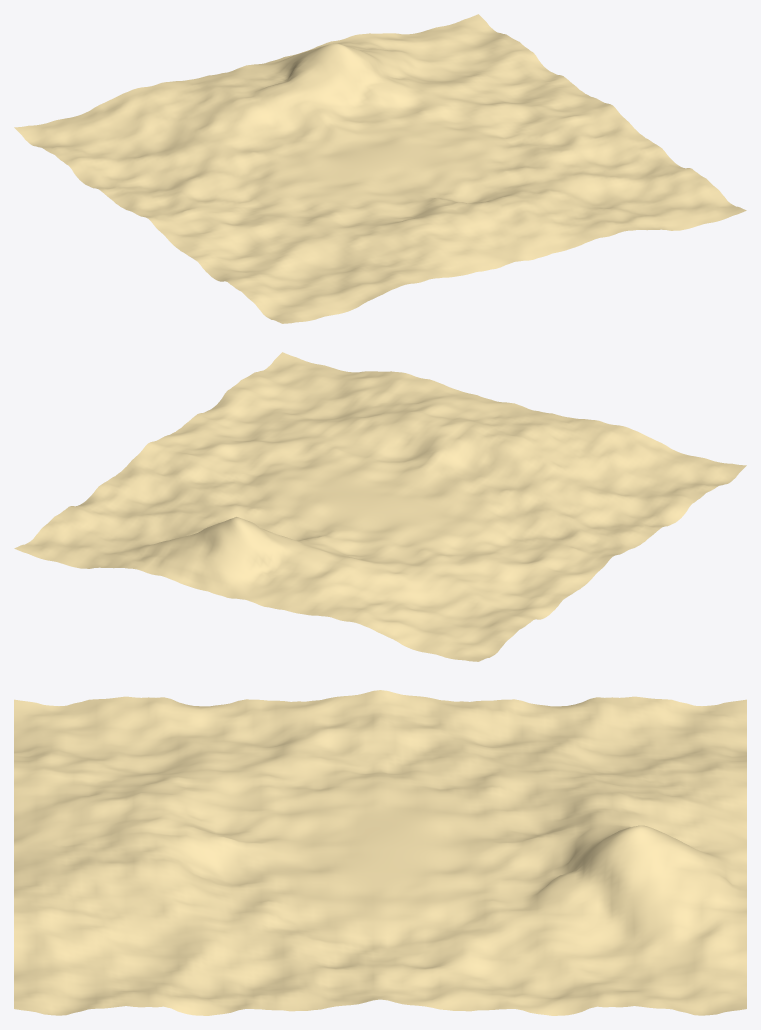
File: ground.fbx
3 views of the same model, one above another, from view 1: azimuth 30°, elevation 25°; view 2: azimuth 150°, elevation 25°; view 3: azimuth 270°, elevation 25° (orthographic). The views are drawn at different scales.
Visible parts, largest first — view 1: Landscape; view 2: Landscape; view 3: Landscape.
Part boxes in pixels (box(x1,y1,x2,y2)): Landscape: box(14, 14, 746, 323); Landscape: box(14, 352, 746, 661); Landscape: box(14, 690, 746, 1015).
Bounding box in the file's own units: 15977 × 1656 × 15991.
